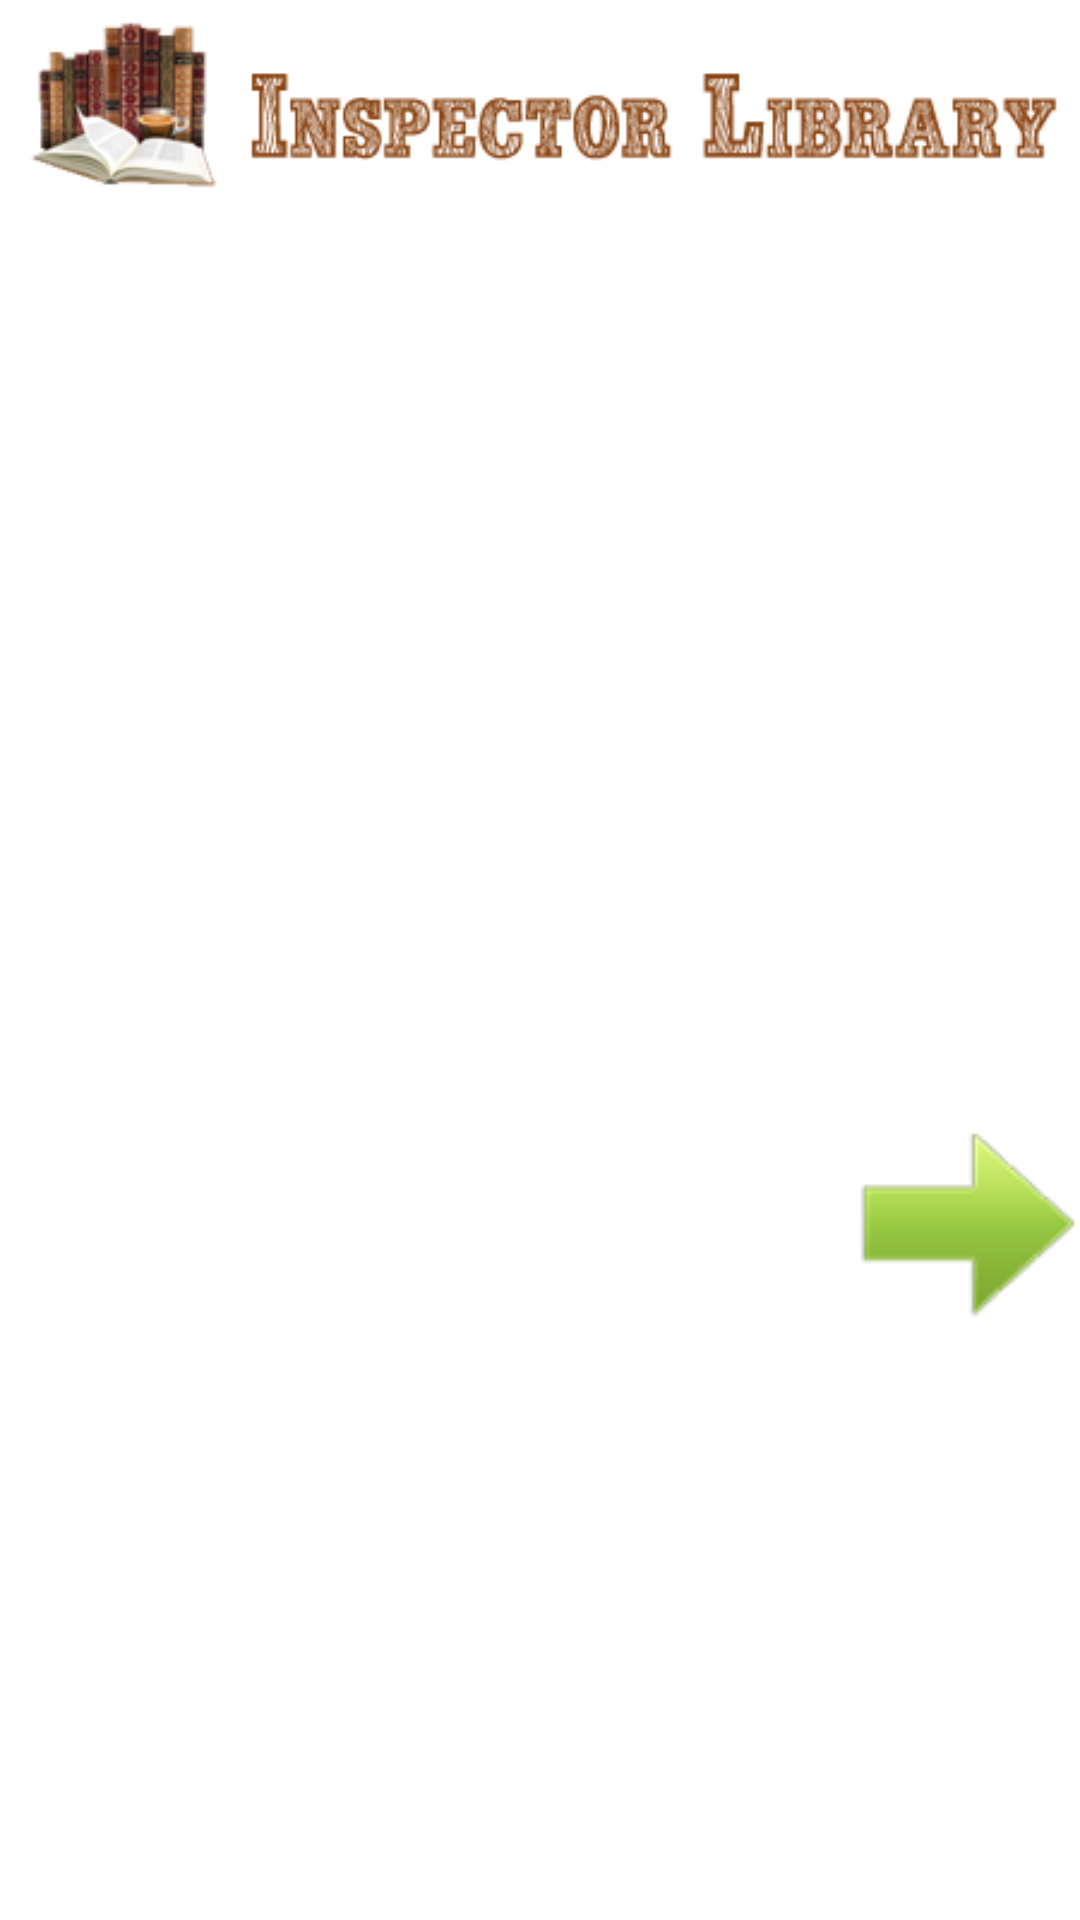

Icon click points for this 1080×1920 phone screenshot, format point (x, y):
arrowright: point (968, 1224)
